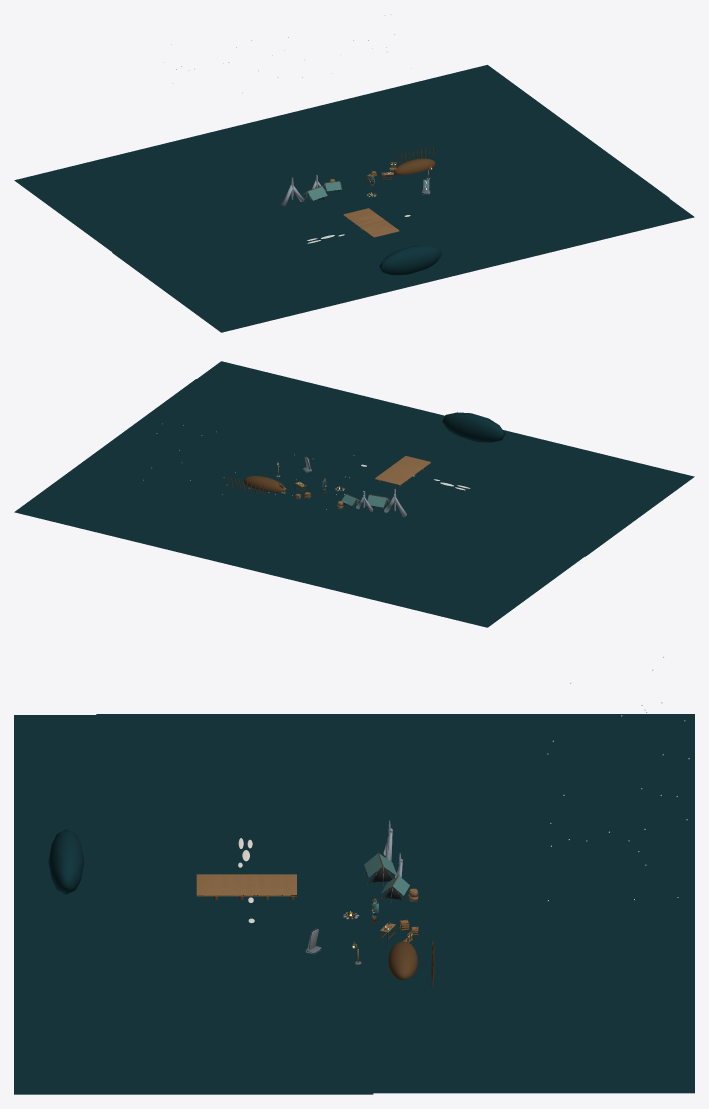
File: 3D模型 scene_night_beach.glb
The picture shows the model from 3 angles, top to bottom: view 1: azimuth 30°, elevation 25°; view 2: azimuth 150°, elevation 25°; view 3: azimuth 270°, elevation 25°; orthographic projection. The views are drawn at different scales.
Visible parts, largest first — view 1: night_sand, night_sea, far_ship, wreck_hull; view 2: night_sand, night_sea, far_ship, wreck_hull; view 3: night_sand, night_sea, far_ship, wreck_hull.
Part boxes in pixels (box(x1,y1,x2,y2)): night_sand: box(14, 65, 669, 313); night_sea: box(112, 198, 694, 332); far_ship: box(379, 245, 442, 275); wreck_hull: box(393, 158, 435, 175); night_sand: box(14, 379, 669, 627); night_sea: box(197, 361, 694, 556); far_ship: box(442, 412, 505, 442); wreck_hull: box(243, 476, 285, 492); night_sand: box(96, 714, 694, 1093); night_sea: box(14, 715, 373, 1094); far_ship: box(48, 829, 84, 894); wreck_hull: box(388, 941, 417, 979).
Bounding box in the file's own units: 60 × 14.04 × 45.5.
